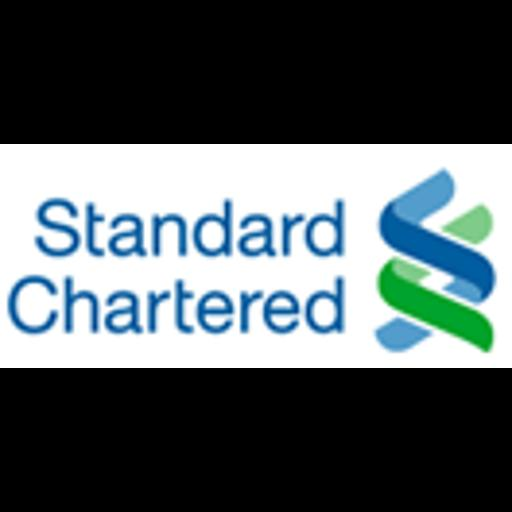Standard Chartered Bank: (0, 144, 512, 368)
